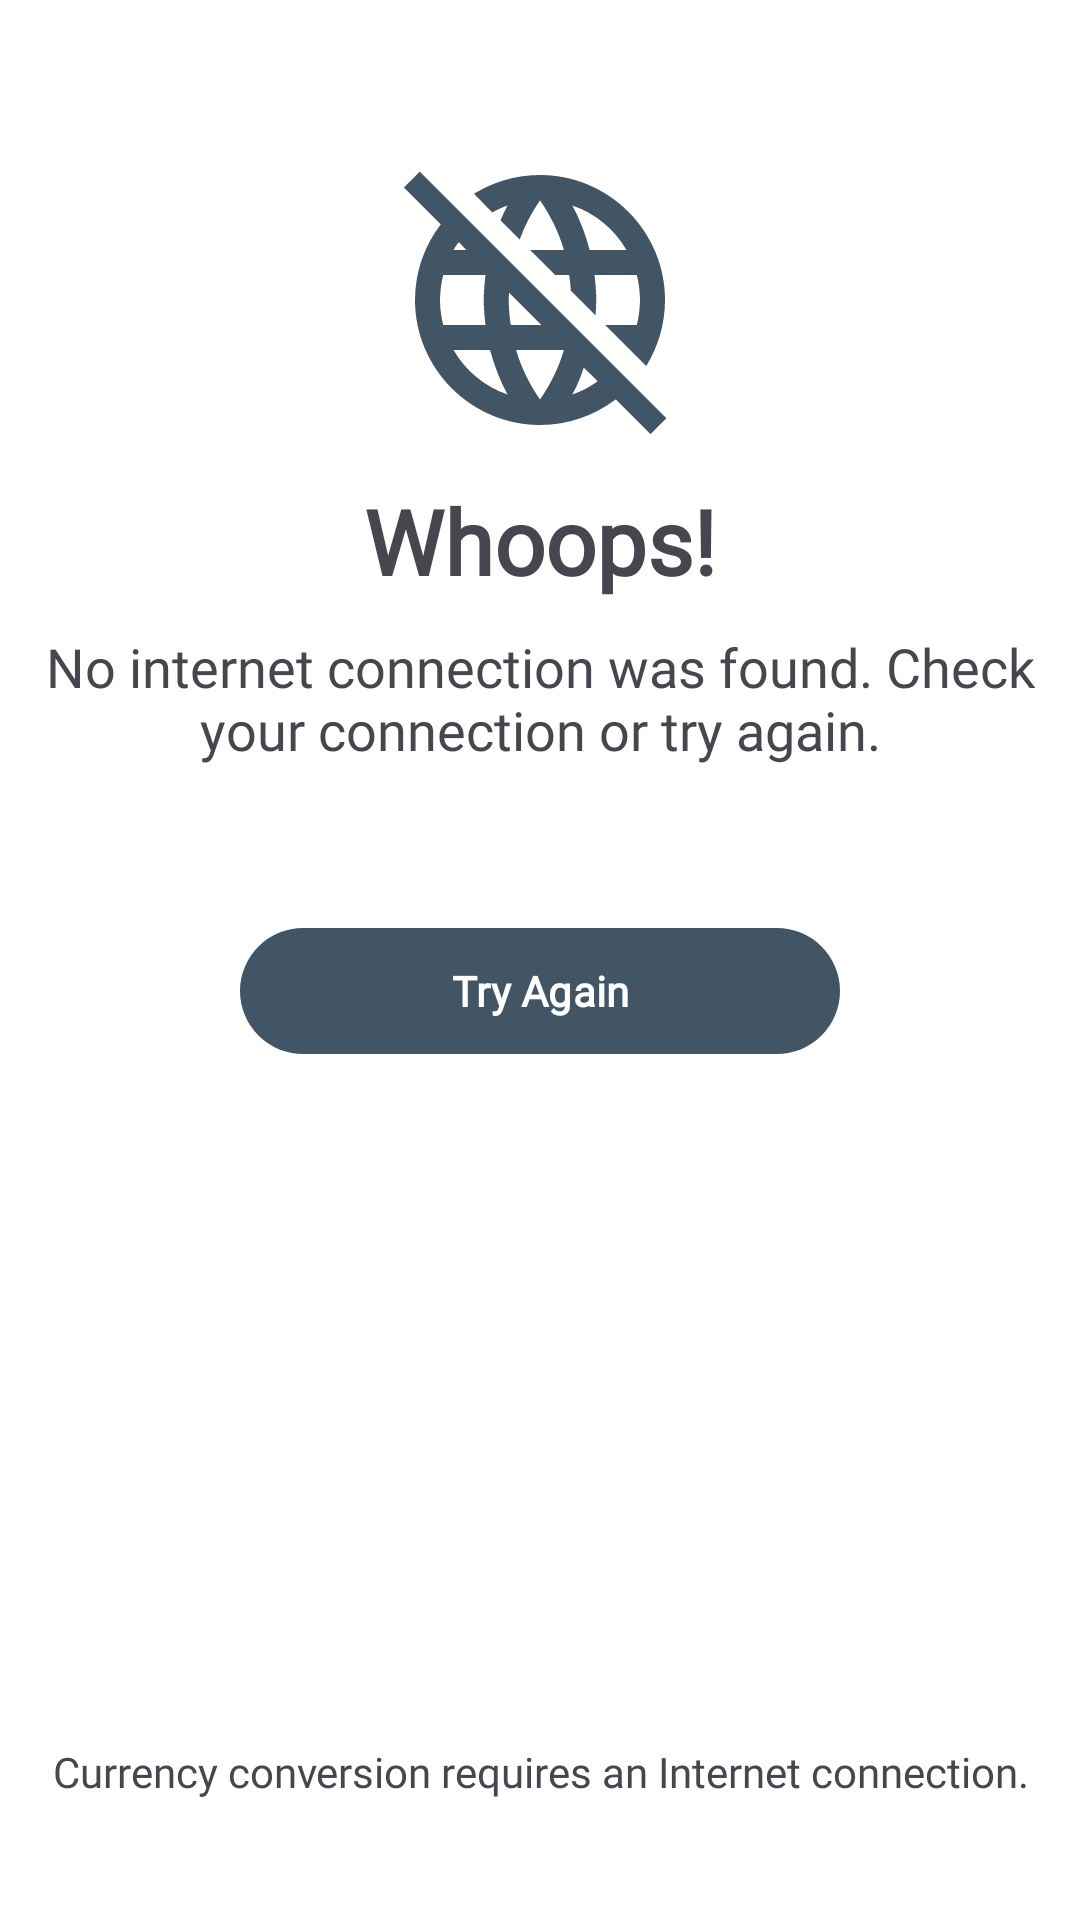

Screen size 1080 x 1920. Icon name, then its center in pixels as (x,y):
web off: (535,303)
